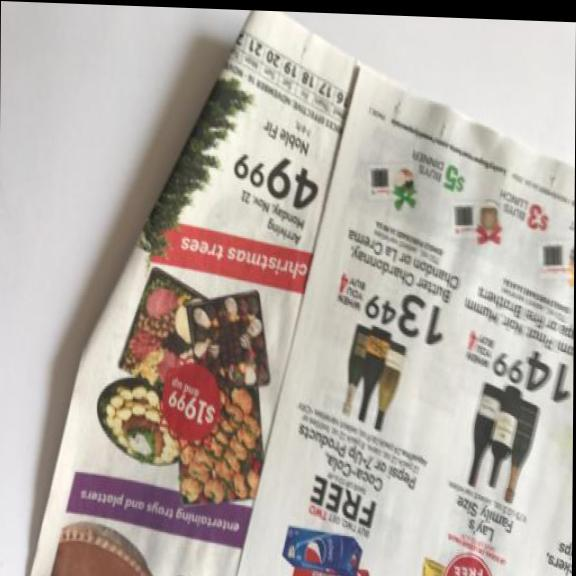Kertas: (23, 5, 576, 576)
